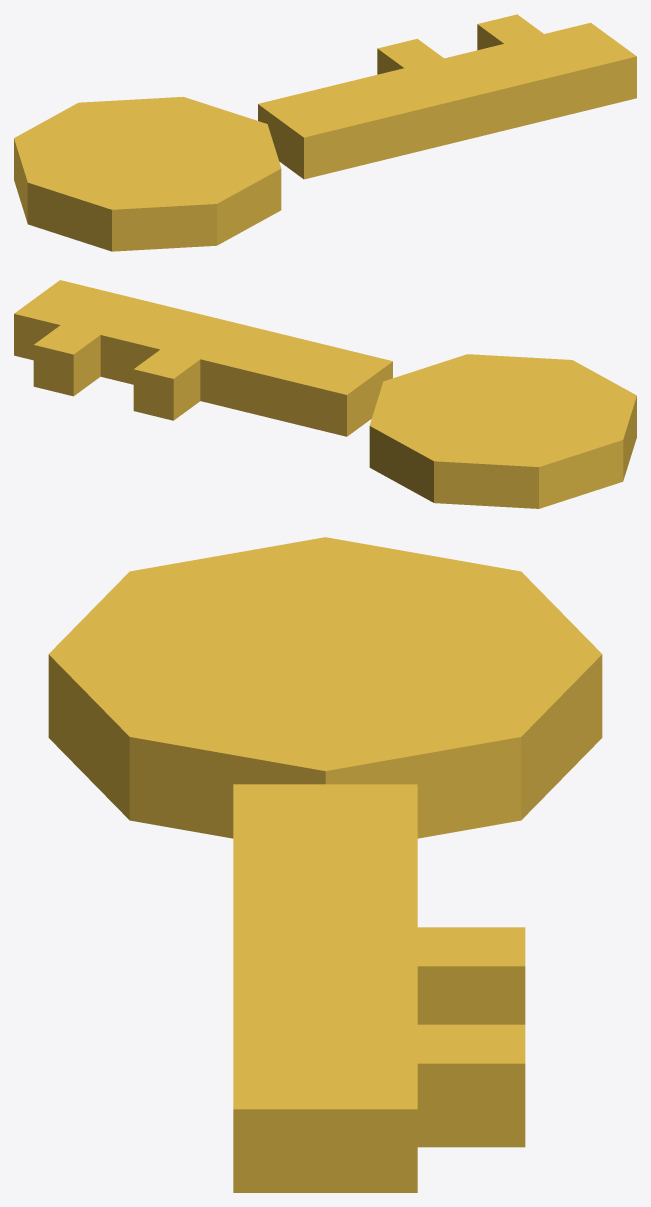
File: key_copy.glb
The picture shows the model from 3 angles, top to bottom: view 1: azimuth 30°, elevation 25°; view 2: azimuth 150°, elevation 25°; view 3: azimuth 270°, elevation 25°; orthographic projection. The views are drawn at different scales.
Visible parts, largest first — view 1: bow_key_brass, blade_key_brass, teeth_key_brass; view 2: bow_key_brass, blade_key_brass, teeth_key_brass; view 3: bow_key_brass, blade_key_brass, teeth_key_brass.
Boxes of the visible parts, box(x1,y1,x2,y2) form: bow_key_brass: box(14, 96, 281, 251); blade_key_brass: box(258, 22, 636, 179); teeth_key_brass: box(377, 14, 546, 74); bow_key_brass: box(369, 354, 636, 508); blade_key_brass: box(14, 280, 392, 436); teeth_key_brass: box(33, 322, 202, 420); bow_key_brass: box(48, 537, 602, 838); blade_key_brass: box(233, 784, 417, 1192); teeth_key_brass: box(402, 927, 525, 1147).
Size of the model in its own units: 0.088 by 0.006 by 0.036.
